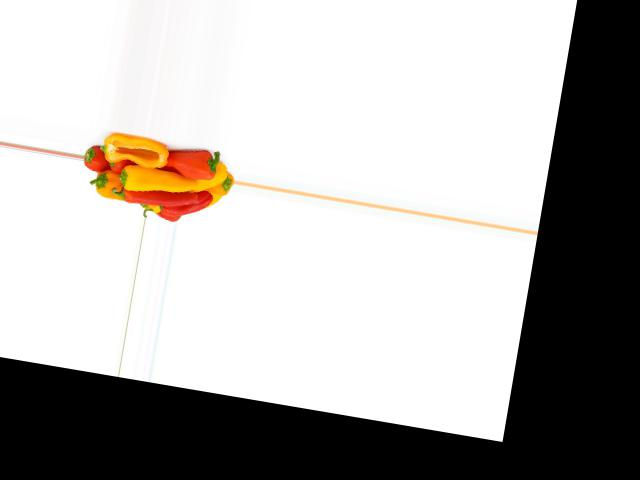bell_pepper: (80, 144, 128, 181)
